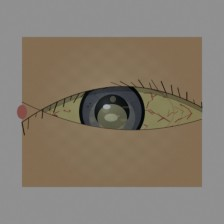corneal_ulcer: (88, 98, 136, 137)
